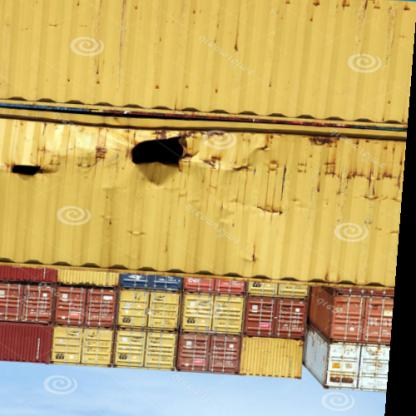Damage: (212, 148, 411, 202), (121, 118, 206, 192), (0, 145, 100, 199)
